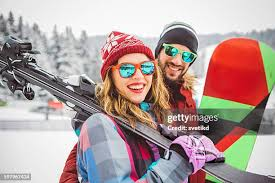snowboard: (186, 38, 275, 183)
